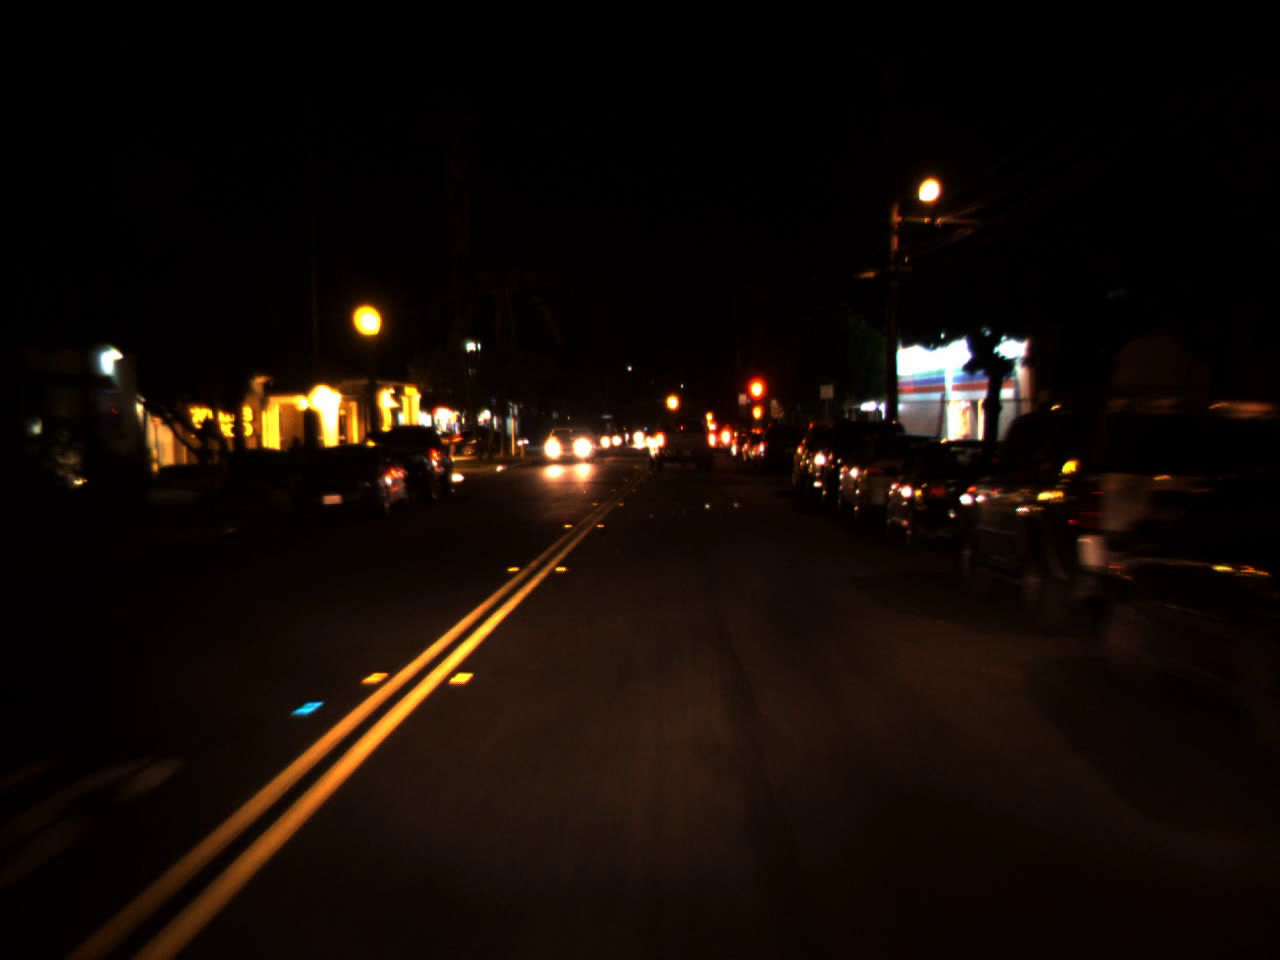stop: (743, 372, 770, 431)
warning: (664, 383, 682, 419), (705, 409, 714, 424)
